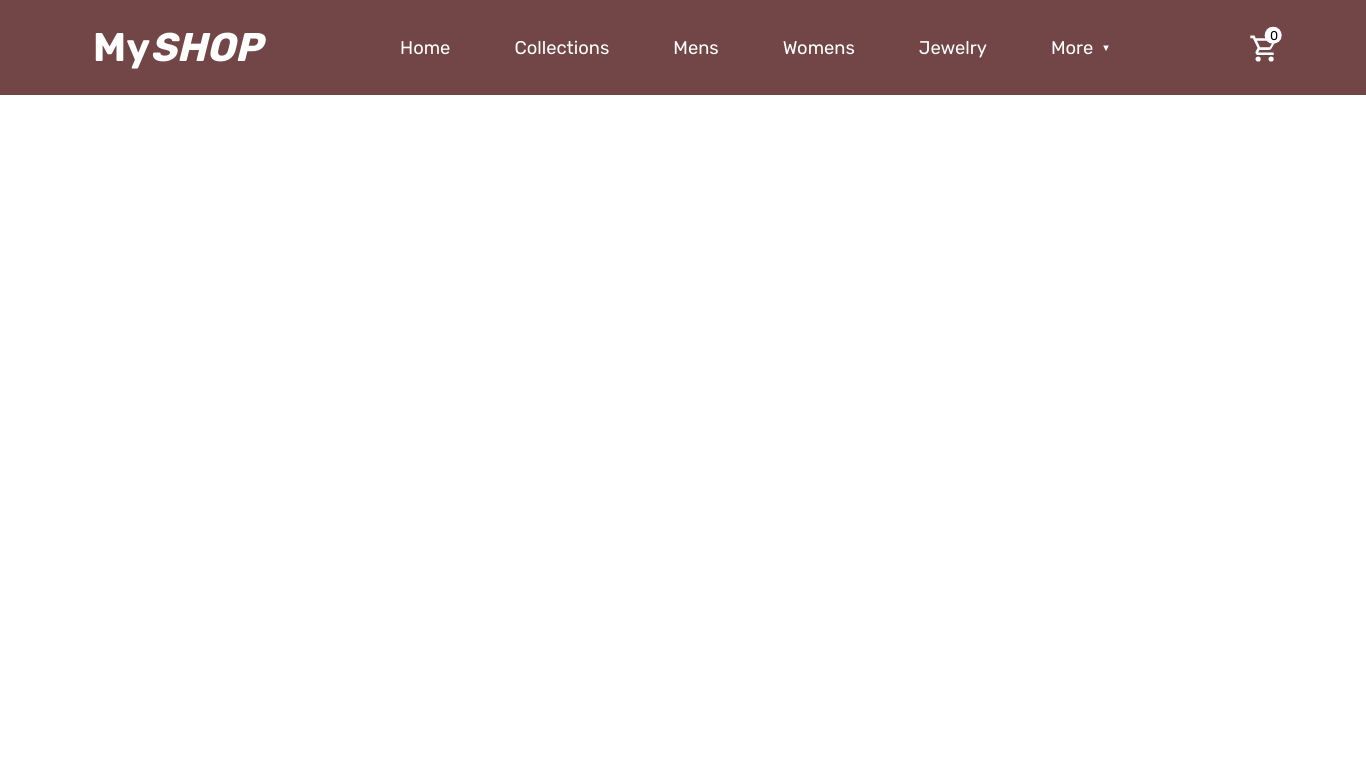
navbar › shows cart after click
This screenshot has width=1366, height=768.
expect the text "Your Cart" is not shown: met
Click the icon with test id "cart-icon" at (1264,49), box [1249,33,1280,64]
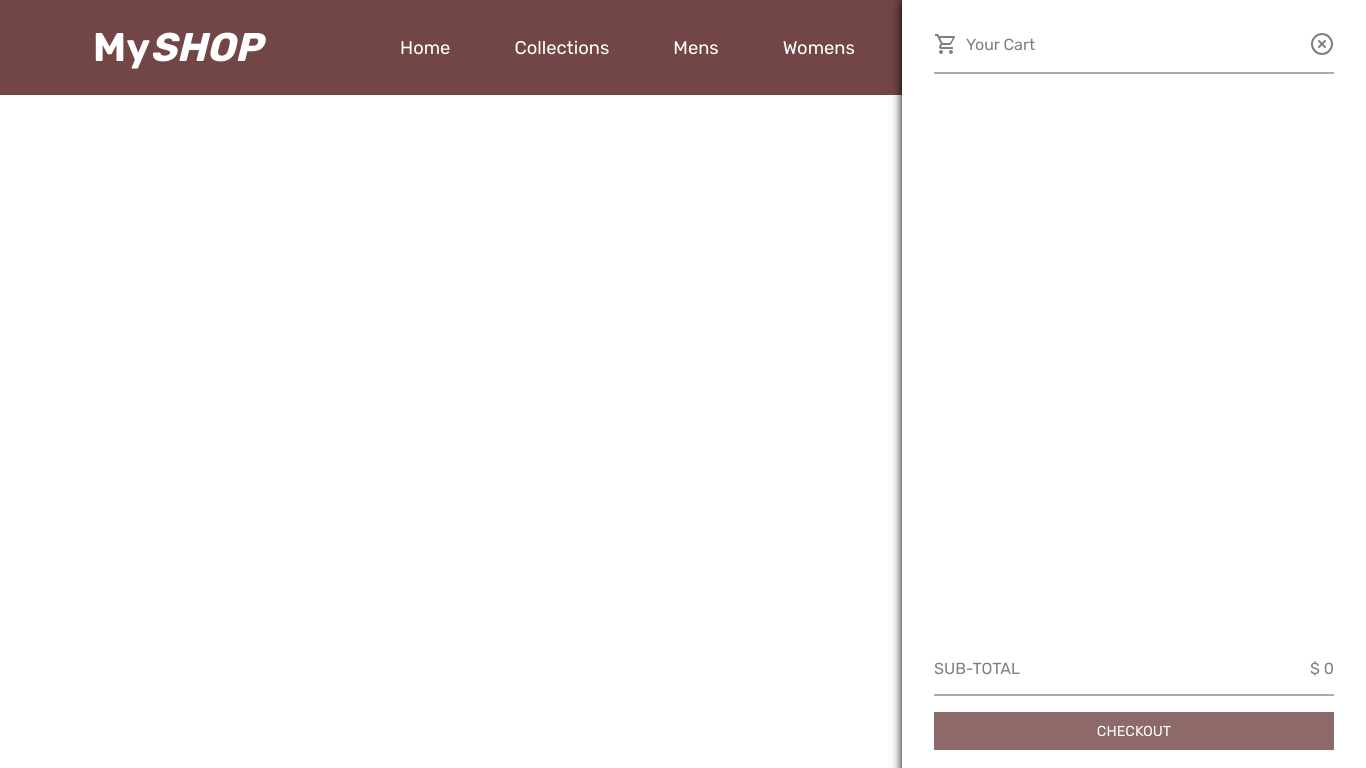
expect the text "Your Cart" is shown: met, box [934,32,1035,56]
